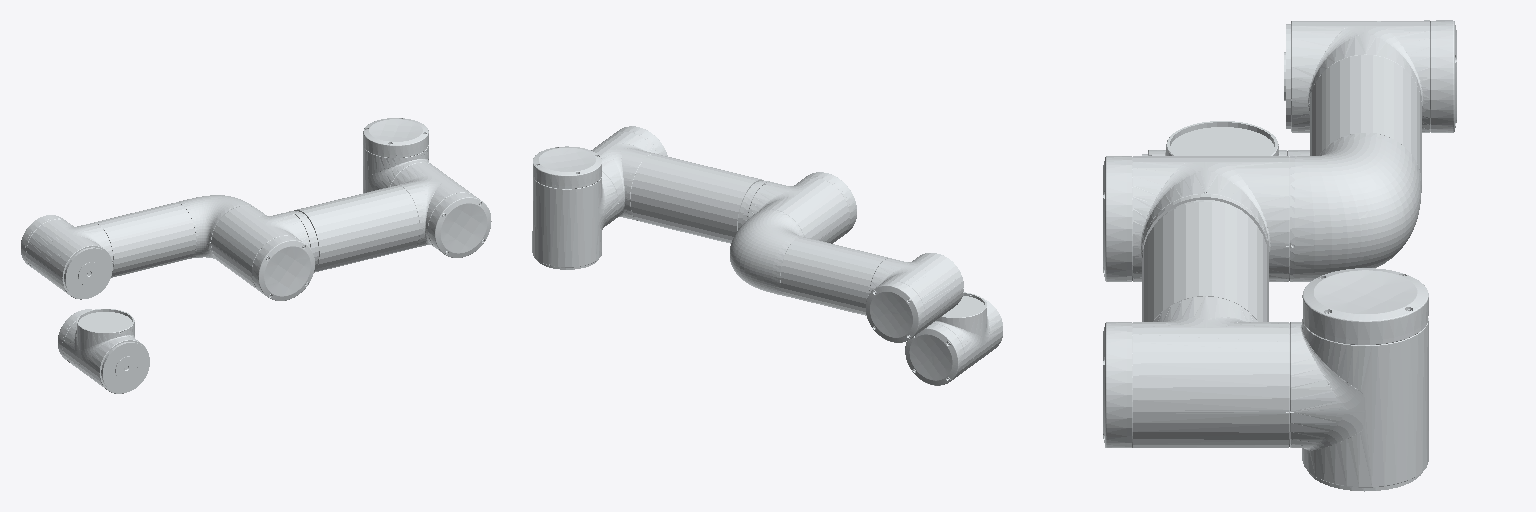
URDF robot description (fr3v5):
<?xml version="1.0" encoding="utf-8"?>
<!-- This URDF was automatically created by SolidWorks to URDF Exporter! Originally created by [author] ([email redacted]) 
     Commit Version: 1.5.1-0-g916b5db  Build Version: 1.5.7152.31018
     For more information, please see http://wiki.ros.org/sw_urdf_exporter -->
<robot
  name="fr3v5">

  <link name="world">
  </link>
  <joint name="world" type="fixed">
    <parent link="world"/>
    <child link="base_link"/>
  </joint>

  <link
    name="base_link">
    <inertial>
      <origin
        xyz="-0.0004939 -0.0004509 0.032214"
        rpy="0 0 0" />
      <mass
        value="0.77817" />
      <inertia
        ixx="0.0013699"
        ixy="1.1455E-05"
        ixz="-1.0521E-05"
        iyy="0.0013695"
        iyz="-9.7516E-06"
        izz="0.0019676" />
    </inertial>
    <visual>
      <origin
        xyz="0 0 0"
        rpy="0 0 0" />
      <geometry>
        <mesh
          filename="package://frcobot_description/meshes/fr3v5/visual/base_link.STL" />
      </geometry>
      <material
        name="">
        <color
          rgba="0.89804 0.91765 0.92941 1" />
      </material>
    </visual>
    <collision>
      <origin
        xyz="0 0 0"
        rpy="0 0 0" />
      <geometry>
        <mesh
          filename="package://frcobot_description/meshes/fr3v5/collision/base_link.STL" />
      </geometry>
    </collision>
  </link>
  <link
    name="shoulder_Link">
    <inertial>
      <origin
        xyz="-6.9768E-07 -0.0021622 0.14153"
        rpy="0 0 0" />
      <mass
        value="2.24" />
      <inertia
        ixx="0.0047264"
        ixy="-5.1291E-08"
        ixz="-1.6678E-08"
        iyy="0.0046439"
        iyz="-3.3888E-06"
        izz="0.0025774" />
    </inertial>
    <visual>
      <origin
        xyz="0 0 0"
        rpy="0 0 0" />
      <geometry>
        <mesh
          filename="package://frcobot_description/meshes/fr3v5/visual/shoulder_Link.STL" />
      </geometry>
      <material
        name="">
        <color
          rgba="0.89804 0.91765 0.92941 1" />
      </material>
    </visual>
    <collision>
      <origin
        xyz="0 0 0"
        rpy="0 0 0" />
      <geometry>
        <mesh
          filename="package://frcobot_description/meshes/fr3v5/collision/shoulder_Link.STL" />
      </geometry>
    </collision>
  </link>
  <joint
    name="j1"
    type="revolute">
    <origin
      xyz="0 0 0"
      rpy="0 0 0" />
    <parent
      link="base_link" />
    <child
      link="shoulder_Link" />
    <axis
      xyz="0 0 1" />
    <limit
      lower="-3.0543"
      upper="3.0543"
      effort="150"
      velocity="3.15" />
    <calibration
      rising="0"
      falling="0" />
    <dynamics
      damping="0"
      friction="0" />
    <safety_controller
      soft_upper_limit="3.0543"
      soft_lower_limit="-3.0543"
      k_position="100.0"
      k_velocity="40.0" />
  </joint>
  <link
    name="upperarm_Link">
    <inertial>
      <origin
        xyz="-0.14053 3.1983E-06 0.11612"
        rpy="0 0 0" />
      <mass
        value="4.94" />
      <inertia
        ixx="0.010088"
        ixy="1.8616E-06"
        ixz="-1.5931E-14"
        iyy="0.01143"
        iyz="-7.7907E-12"
        izz="0.0071309" />
    </inertial>
    <visual>
      <origin
        xyz="0 0 0"
        rpy="0 0 0" />
      <geometry>
        <mesh
          filename="package://frcobot_description/meshes/fr3v5/visual/upperarm_Link.STL" />
      </geometry>
      <material
        name="">
        <color
          rgba="0.89804 0.91765 0.92941 1" />
      </material>
    </visual>
    <collision>
      <origin
        xyz="0 0 0"
        rpy="0 0 0" />
      <geometry>
        <mesh
          filename="package://frcobot_description/meshes/fr3v5/collision/upperarm_Link.STL" />
      </geometry>
    </collision>
  </link>
  <joint
    name="j2"
    type="revolute">
    <origin
      xyz="0 0 0.1392"
      rpy="1.5708 0 -1.4405E-05" />
    <parent
      link="shoulder_Link" />
    <child
      link="upperarm_Link" />
    <axis
      xyz="0 0 1" />
    <limit
      lower="-4.6251"
      upper="1.4835"
      effort="150"
      velocity="3.15" />
    <calibration
      rising="0"
      falling="0" />
    <dynamics
      damping="0"
      friction="0" />
    <safety_controller
      soft_upper_limit="1.4835"
      soft_lower_limit="-4.6251"
      k_position="100.0"
      k_velocity="40.0" />
  </joint>
  <link
    name="forearm_Link">
    <inertial>
      <origin
        xyz="-0.19264 4.9452E-06 3.3036E-05"
        rpy="0 0 0" />
      <mass
        value="2.29" />
      <inertia
        ixx="0.0035453"
        ixy="7.2272E-07"
        ixz="-7.3939E-05"
        iyy="0.0041768"
        iyz="-2.9234E-07"
        izz="0.0030346" />
    </inertial>
    <visual>
      <origin
        xyz="0 0 0"
        rpy="0 0 0" />
      <geometry>
        <mesh
          filename="package://frcobot_description/meshes/fr3v5/visual/forearm_Link.STL" />
      </geometry>
      <material
        name="">
        <color
          rgba="0.89804 0.91765 0.92941 1" />
      </material>
    </visual>
    <collision>
      <origin
        xyz="0 0 0"
        rpy="0 0 0" />
      <geometry>
        <mesh
          filename="package://frcobot_description/meshes/fr3v5/collision/forearm_Link.STL" />
      </geometry>
    </collision>
  </link>
  <joint
    name="j3"
    type="revolute">
    <origin
      xyz="-0.28 0 0"
      rpy="0 0 0" />
    <parent
      link="upperarm_Link" />
    <child
      link="forearm_Link" />
    <axis
      xyz="0 0 1" />
    <limit
      lower="-2.8274"
      upper="2.8274"
      effort="150"
      velocity="3.15" />
    <calibration
      rising="0"
      falling="0" />
    <dynamics
      damping="0"
      friction="0" />
    <safety_controller
      soft_upper_limit="2.8274"
      soft_lower_limit="-2.8274"
      k_position="100.0"
      k_velocity="40.0" />
  </joint>
  <link
    name="wrist1_Link">
    <inertial>
      <origin
        xyz="4.2788E-07 0.001723 0.098605"
        rpy="0 0 0" />
      <mass
        value="1.56" />
      <inertia
        ixx="0.0027336"
        ixy="1.4344E-08"
        ixz="3.6288E-08"
        iyy="0.001585"
        iyz="-1.0107E-05"
        izz="0.0026273" />
    </inertial>
    <visual>
      <origin
        xyz="0 0 0"
        rpy="0 0 0" />
      <geometry>
        <mesh
          filename="package://frcobot_description/meshes/fr3v5/visual/wrist1_Link.STL" />
      </geometry>
      <material
        name="">
        <color
          rgba="0.89804 0.91765 0.92941 1" />
      </material>
    </visual>
    <collision>
      <origin
        xyz="0 0 0"
        rpy="0 0 0" />
      <geometry>
        <mesh
          filename="package://frcobot_description/meshes/fr3v5/collision/wrist1_Link.STL" />
      </geometry>
    </collision>
  </link>
  <joint
    name="j4"
    type="revolute">
    <origin
      xyz="-0.24001 0 0"
      rpy="0 0 0" />
    <parent
      link="forearm_Link" />
    <child
      link="wrist1_Link" />
    <axis
      xyz="0 0 1" />
    <limit
      lower="-4.6251"
      upper="1.4835"
      effort="28"
      velocity="3.2" />
    <calibration
      rising="0"
      falling="0" />
    <dynamics
      damping="0"
      friction="0" />
    <safety_controller
      soft_upper_limit="1.4835"
      soft_lower_limit="-4.6251"
      k_position="100.0"
      k_velocity="40.0" />
  </joint>
  <link
    name="wrist2_Link">
    <inertial>
      <origin
        xyz="-4.3511E-07 -0.001723 0.098612"
        rpy="0 0 0" />
      <mass
        value="1.56" />
      <inertia
        ixx="0.0027336"
        ixy="1.4476E-08"
        ixz="-3.6276E-08"
        iyy="0.001585"
        iyz="1.0107E-05"
        izz="0.0026273" />
    </inertial>
    <visual>
      <origin
        xyz="0 0 0"
        rpy="0 0 0" />
      <geometry>
        <mesh
          filename="package://frcobot_description/meshes/fr3v5/visual/wrist2_Link.STL" />
      </geometry>
      <material
        name="">
        <color
          rgba="0.89804 0.91765 0.92941 1" />
      </material>
    </visual>
    <collision>
      <origin
        xyz="0 0 0"
        rpy="0 0 0" />
      <geometry>
        <mesh
          filename="package://frcobot_description/meshes/fr3v5/collision/wrist2_Link.STL" />
      </geometry>
    </collision>
  </link>
  <joint
    name="j5"
    type="revolute">
    <origin
      xyz="0 0 0.10199"
      rpy="1.5708 1.4405E-05 0" />
    <parent
      link="wrist1_Link" />
    <child
      link="wrist2_Link" />
    <axis
      xyz="0 0 1" />
    <limit
      lower="-3.0543"
      upper="3.0543"
      effort="28"
      velocity="3.2" />
    <calibration
      rising="0"
      falling="0" />
    <dynamics
      damping="0"
      friction="0" />
    <safety_controller
      soft_upper_limit="3.0543"
      soft_lower_limit="-3.0543"
      k_position="100.0"
      k_velocity="40.0" />
  </joint>
  <link
    name="wrist3_Link">
    <inertial>
      <origin
        xyz="7.7503E-05 1.7913E-05 0.076124"
        rpy="0 0 0" />
      <mass
        value="0.36" />
      <inertia
        ixx="0.00055419"
        ixy="-3.0565E-09"
        ixz="-2.3684E-07"
        iyy="0.00055654"
        iyz="4.5224E-07"
        izz="0.00083168" />
    </inertial>
    <visual>
      <origin
        xyz="0 0 0"
        rpy="0 0 0" />
      <geometry>
        <mesh
          filename="package://frcobot_description/meshes/fr3v5/visual/wrist3_Link.STL" />
      </geometry>
      <material
        name="">
        <color
          rgba="0.89804 0.91765 0.92941 1" />
      </material>
    </visual>
    <collision>
      <origin
        xyz="0 0 0"
        rpy="0 0 0" />
      <geometry>
        <mesh
          filename="package://frcobot_description/meshes/fr3v5/collision/wrist3_Link.STL" />
      </geometry>
    </collision>
  </link>
  <joint
    name="j6"
    type="revolute">
    <origin
      xyz="0 0 0.102"
      rpy="-1.5708 0 0" />
    <parent
      link="wrist2_Link" />
    <child
      link="wrist3_Link" />
    <axis
      xyz="0 0 1" />
    <limit
      lower="-3.0543"
      upper="3.0543"
      effort="28"
      velocity="3.2" />
    <calibration
      rising="0"
      falling="0" />
    <dynamics
      damping="0"
      friction="0" />
    <safety_controller
      soft_upper_limit="3.0543"
      soft_lower_limit="-3.0543"
      k_position="100.0"
      k_velocity="40.0" />
  </joint>
  <link
    name="tool_Link">
    <inertial>
      <origin
        xyz="0.24412 0.079181 -0.126"
        rpy="0 0 0" />
      <mass
        value="0" />
      <inertia
        ixx="0.10666"
        ixy="-0.046059"
        ixz="0.046354"
        iyy="0.87967"
        iyz="0.0095222"
        izz="0.85231" />
    </inertial>
    <visual>
      <origin
        xyz="0 0 0"
        rpy="0 0 0" />
      <geometry>
        <mesh
          filename="package://frcobot_description/meshes/fr3v5/visual/tool_Link.STL" />
      </geometry>
      <material
        name="">
        <color
          rgba="1 1 1 1" />
      </material>
    </visual>
    <collision>
      <origin
        xyz="0 0 0"
        rpy="0 0 0" />
      <geometry>
        <mesh
          filename="package://frcobot_description/meshes/fr3v5/collision/tool_Link.STL" />
      </geometry>
    </collision>
  </link>
  <joint
    name="tool"
    type="fixed">
    <origin
      xyz="0 0 0.1"
      rpy="0 0 0" />
    <parent
      link="wrist3_Link" />
    <child
      link="tool_Link" />
    <axis
      xyz="0 0 0" />
    <limit
      lower="0"
      upper="0"
      effort="0"
      velocity="0" />
    <calibration
      rising="0"
      falling="0" />
    <dynamics
      damping="0"
      friction="0" />
    <safety_controller
      soft_upper_limit="0"
      soft_lower_limit="0"
      k_position="100.0"
      k_velocity="40.0" />
  </joint>
</robot>

--- Facts derived from the render (not from the file) ---
Views: 3 orthographic renders of the robot side by side, from view 1: azimuth 30°, elevation 25°; view 2: azimuth 150°, elevation 25°; view 3: azimuth 270°, elevation 25°.
Model fr3v5 with 9 links and 8 joints (6 revolute, 2 fixed), rooted at world, posed every joint at zero.
Links seen in each view (by area): view 1: upperarm_Link, forearm_Link, wrist2_Link, shoulder_Link; view 2: forearm_Link, upperarm_Link, shoulder_Link, wrist2_Link; view 3: upperarm_Link, forearm_Link, shoulder_Link, wrist2_Link.
Boxes of the visible links, <box> form: upperarm_Link: <box>211,163,491,300</box>; forearm_Link: <box>21,195,253,299</box>; wrist2_Link: <box>58,309,149,393</box>; shoulder_Link: <box>363,118,431,192</box>; forearm_Link: <box>730,209,963,342</box>; upperarm_Link: <box>591,126,856,243</box>; shoulder_Link: <box>532,146,617,269</box>; wrist2_Link: <box>905,292,1002,385</box>; upperarm_Link: <box>1103,156,1293,447</box>; forearm_Link: <box>1284,20,1456,281</box>; shoulder_Link: <box>1290,268,1428,491</box>; wrist2_Link: <box>1142,121,1309,156</box>.
Bounding box of the posed robot: 0.605 × 0.252 × 0.215 m (x, y, z).
4 mesh visuals loaded from 8 distinct referenced files (4 binary STL); not drawn: 3 (reference not matched to a file when rendering), 1 (file found but could not be loaded).
